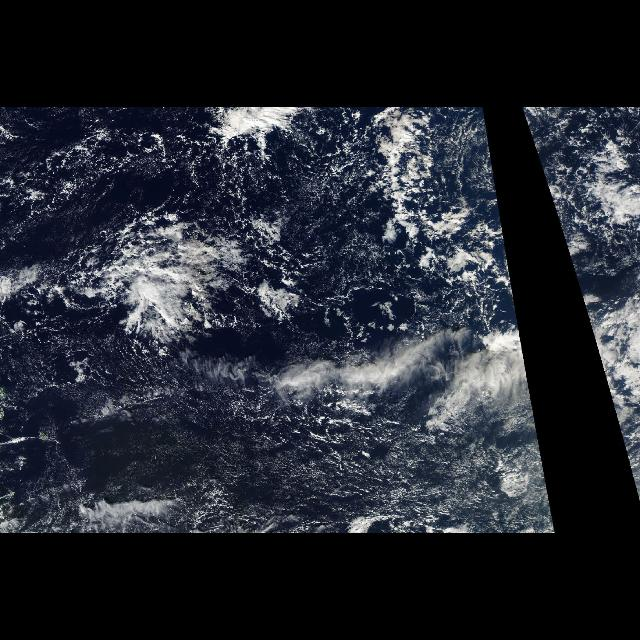Gravel: (5, 116, 497, 312)
Sugar: (119, 419, 549, 533)
